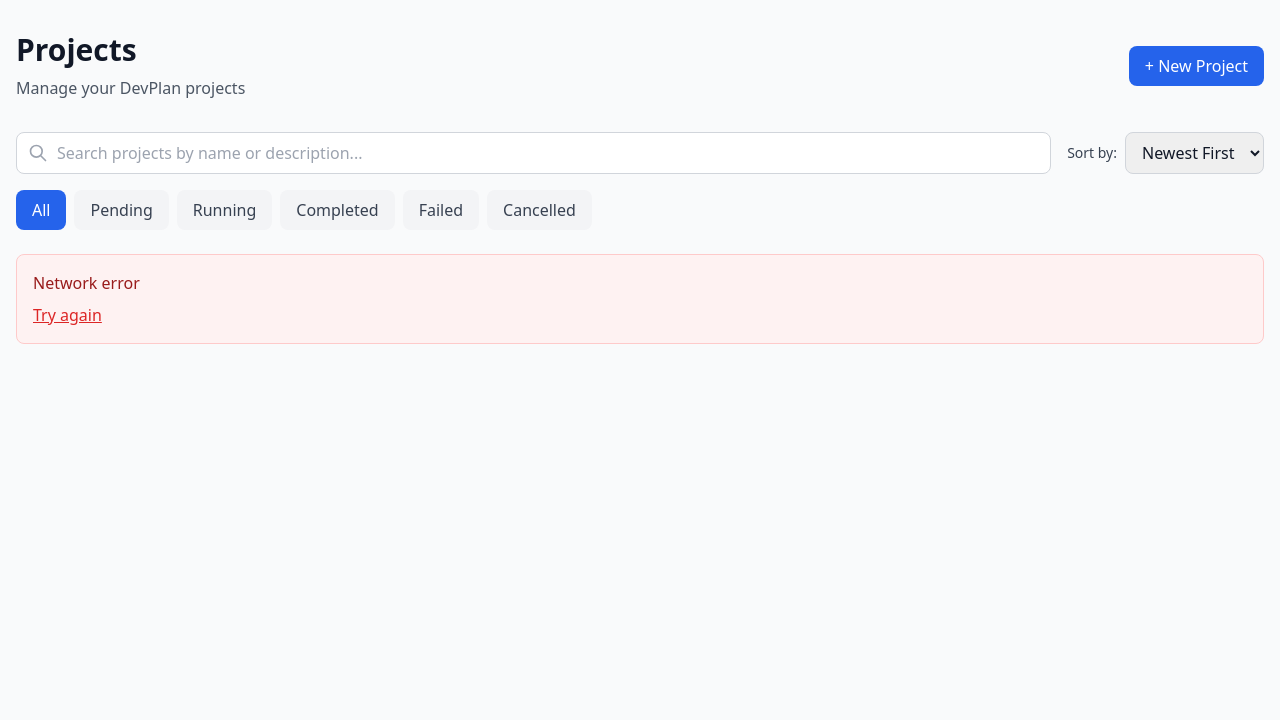
Test: ProjectsListPage › should retry loading projects when try again is clicked
The width and height of the screenshot is (1280, 720).
Expected: the text "Network error" is shown, [33,272,140,294]
Click the button "Try again" at [67, 315], box [33,303,102,327]
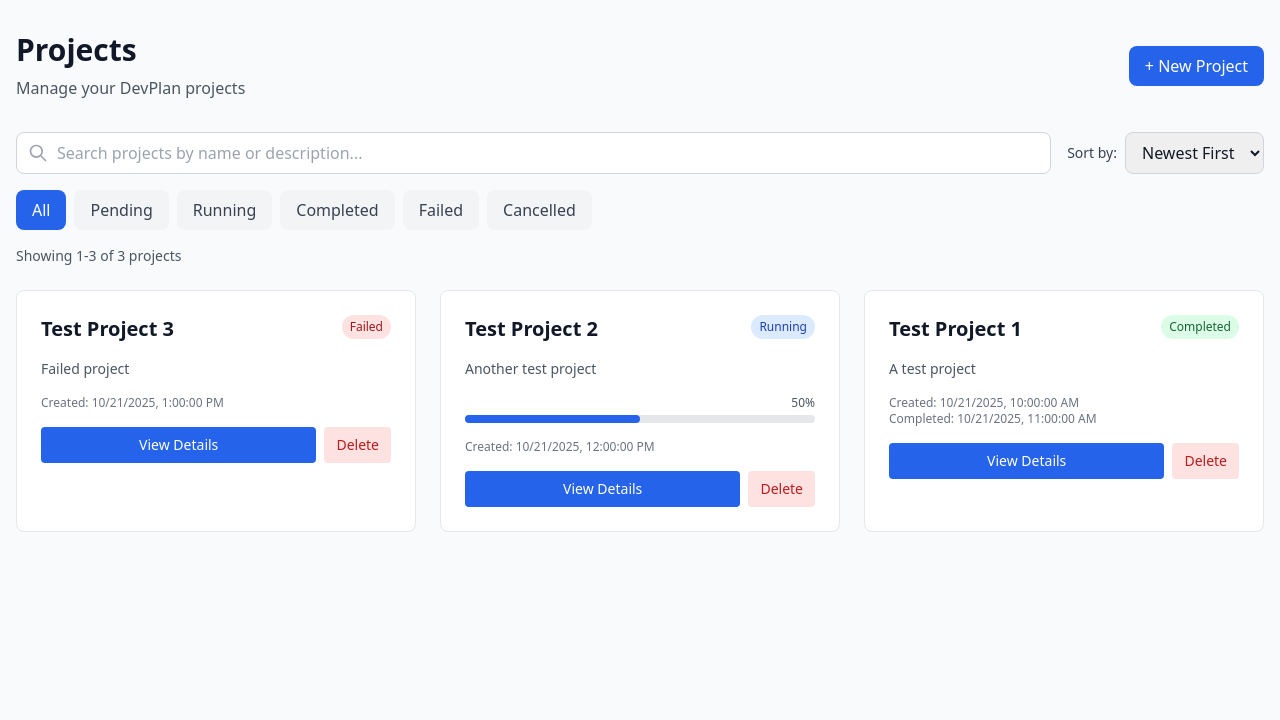
Expected: the heading "Test Project 1" is shown, [889,315,1022,342]
